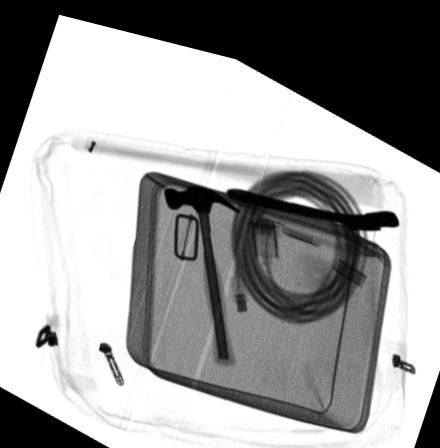Hammer: (164, 173, 240, 353)
Wrench: (224, 175, 399, 211)
